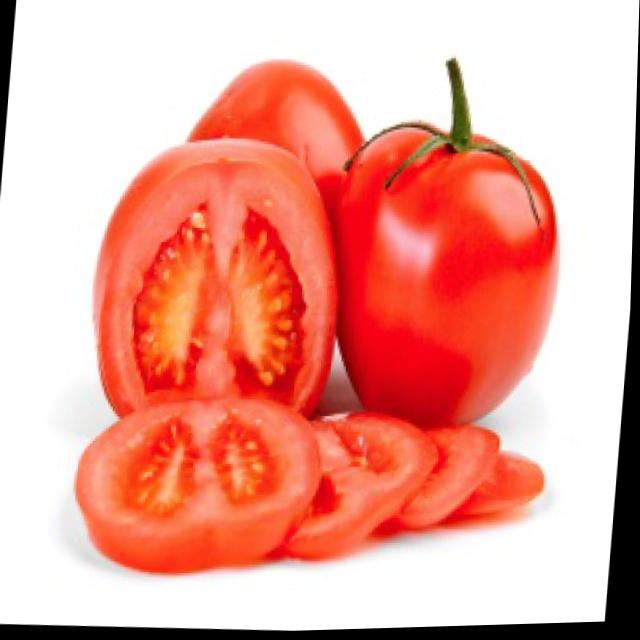tomato: (321, 121, 569, 440), (182, 55, 374, 223)
